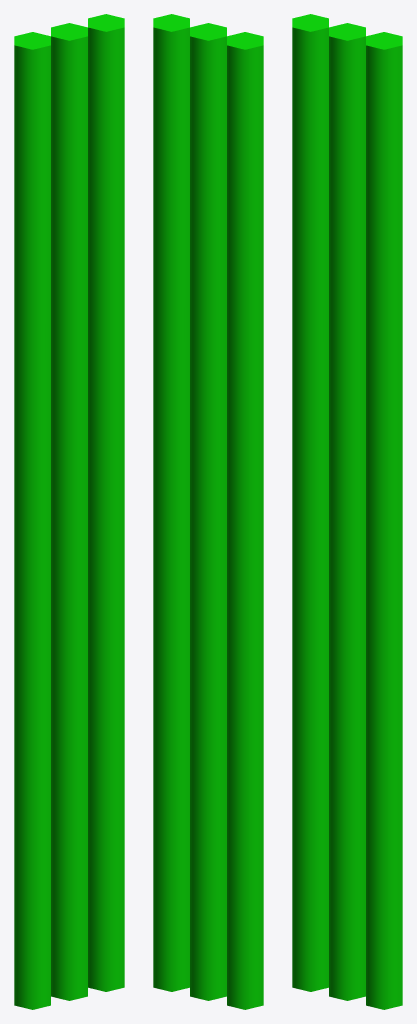
The picture shows the model from 3 angles, left to right: view 1: azimuth 30°, elevation 25°; view 2: azimuth 150°, elevation 25°; view 3: azimuth 330°, elevation 25°; orthographic projection.
Parts seen in each view (by area): view 1: Plane.588; view 2: Plane.588; view 3: Plane.588.
Boxes of the visible parts, bbox=[...] form: Plane.588: bbox=[14, 14, 124, 1009]; Plane.588: bbox=[153, 14, 263, 1009]; Plane.588: bbox=[292, 14, 402, 1009].
Size of the model in its own units: 0.06 by 0.5 by 0.0173.
